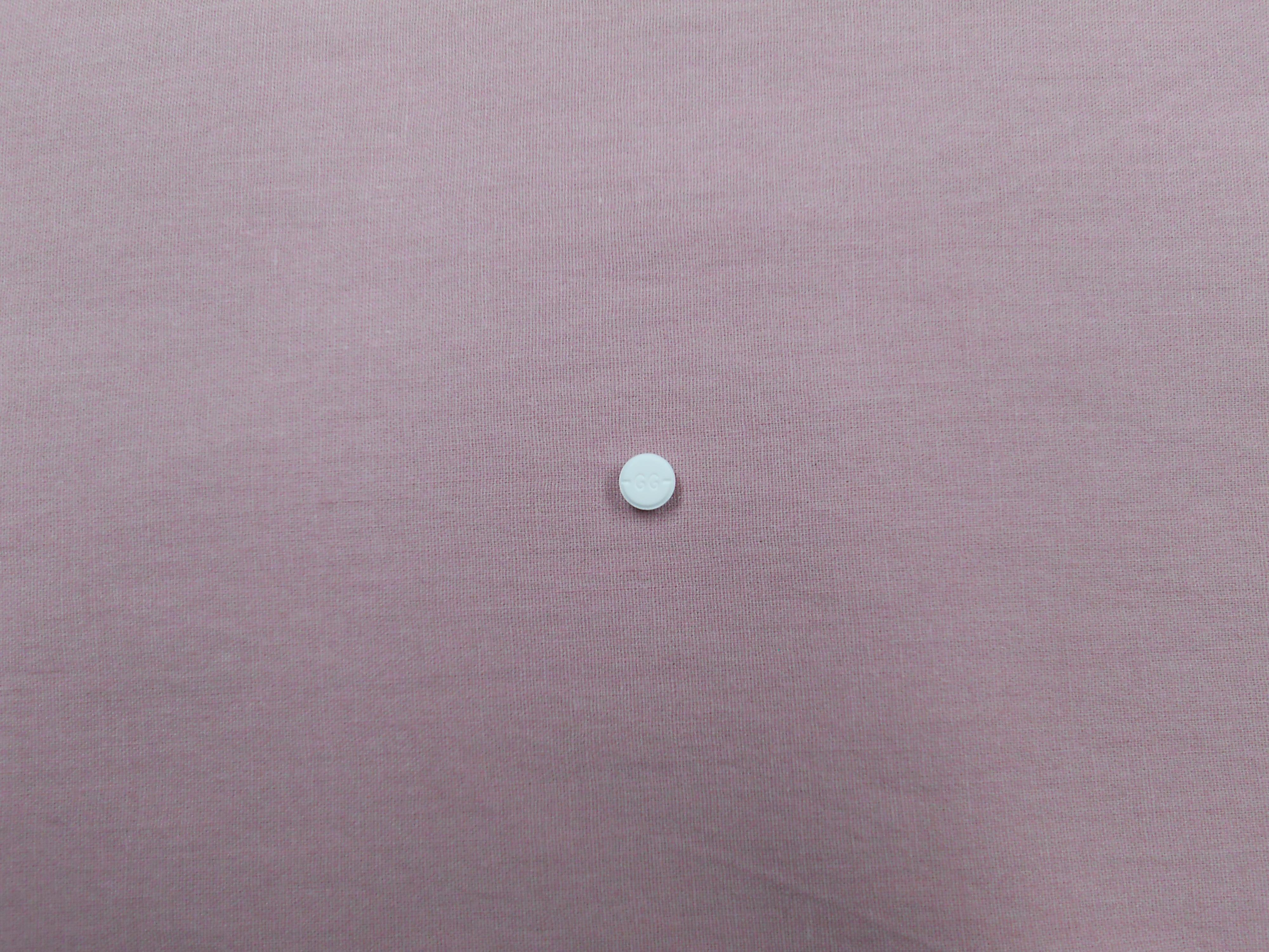Pill: (611, 446, 682, 516)
